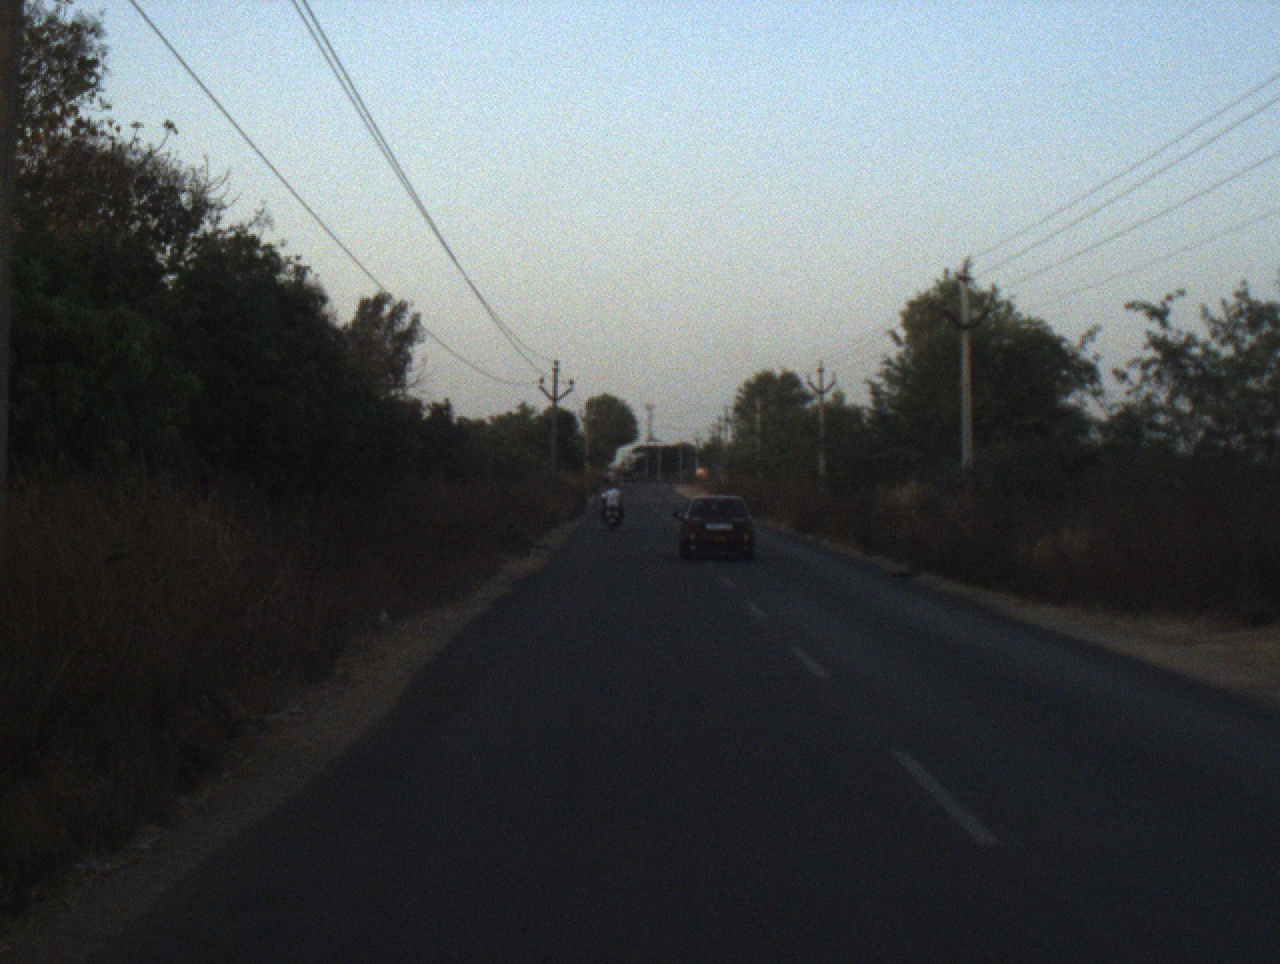autorickshaw: (618, 467, 632, 486)
car: (672, 491, 757, 562)
motorcycle: (600, 502, 621, 531)
rider: (598, 485, 622, 520)
